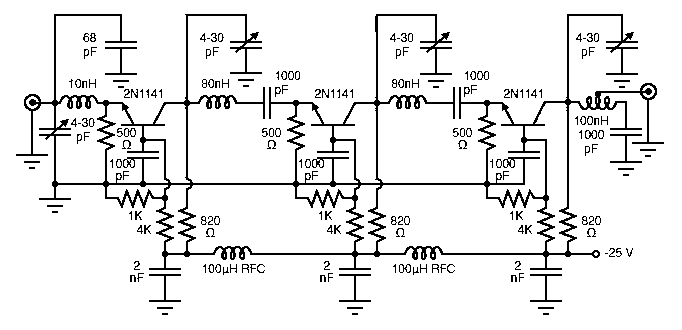C: (225, 31, 273, 61), (35, 120, 77, 143), (446, 82, 468, 125), (148, 261, 186, 285), (334, 261, 379, 281), (525, 262, 565, 283), (101, 36, 142, 55)
L: (383, 88, 435, 115), (194, 91, 245, 117), (400, 239, 450, 262), (56, 90, 103, 113), (208, 243, 257, 263)
Q: (116, 98, 177, 131), (305, 98, 363, 131), (494, 98, 550, 131)
R: (110, 186, 158, 215), (174, 198, 201, 245), (491, 186, 537, 213), (282, 113, 310, 156), (303, 186, 346, 213), (150, 204, 178, 245), (365, 201, 391, 244), (339, 205, 366, 246)
